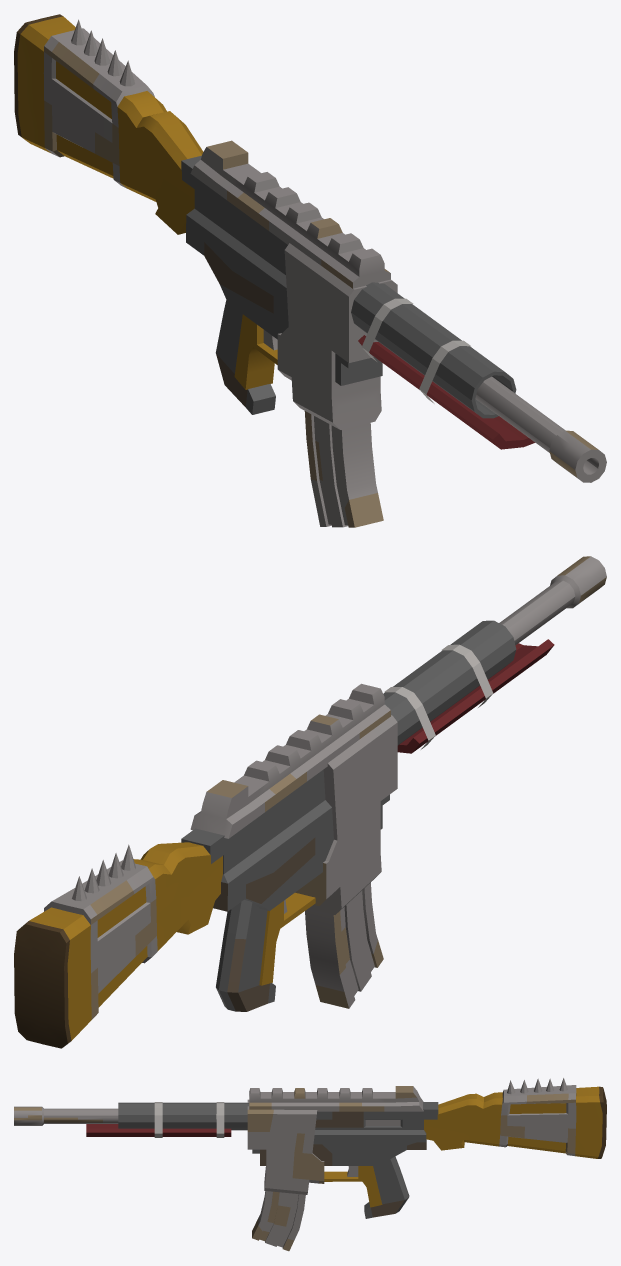
File: gun_rifle.glb
3 renders of one model, top to bottom at view 1: azimuth 30°, elevation 25°; view 2: azimuth 150°, elevation 25°; view 3: azimuth 270°, elevation 25°, orthographic. The views are drawn at different scales.
Visible parts, largest first — view 1: Rifle; view 2: Rifle; view 3: Rifle.
Boxes of the visible parts, x1,y1,x2,y2 form: Rifle: [14, 14, 606, 527]; Rifle: [14, 556, 606, 1048]; Rifle: [14, 1078, 606, 1251].
Bounding box in the file's own units: 0.1145 × 0.518 × 1.64.
Materials: 1 (1 with a texture image).
